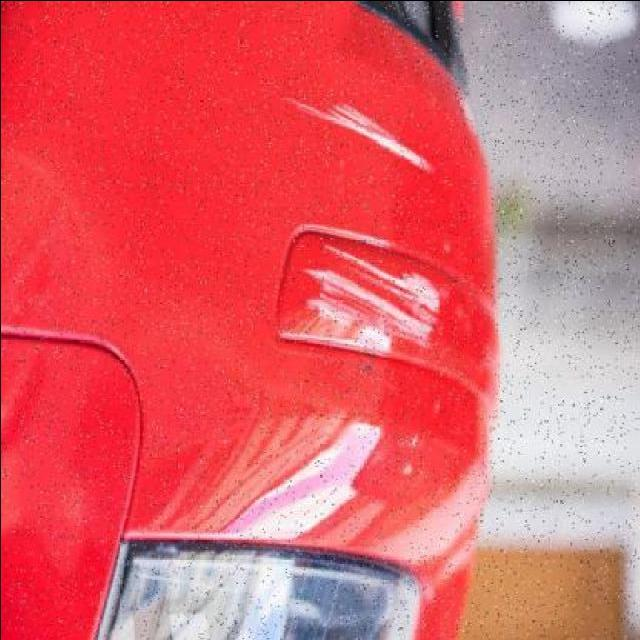front-bumper-dent: (121, 2, 497, 563)
